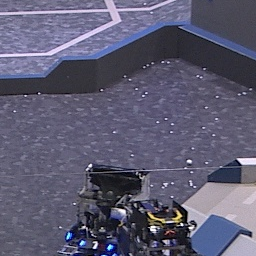Blue: (79, 238, 112, 253)
Robot: (59, 160, 149, 256), (129, 197, 200, 256)
